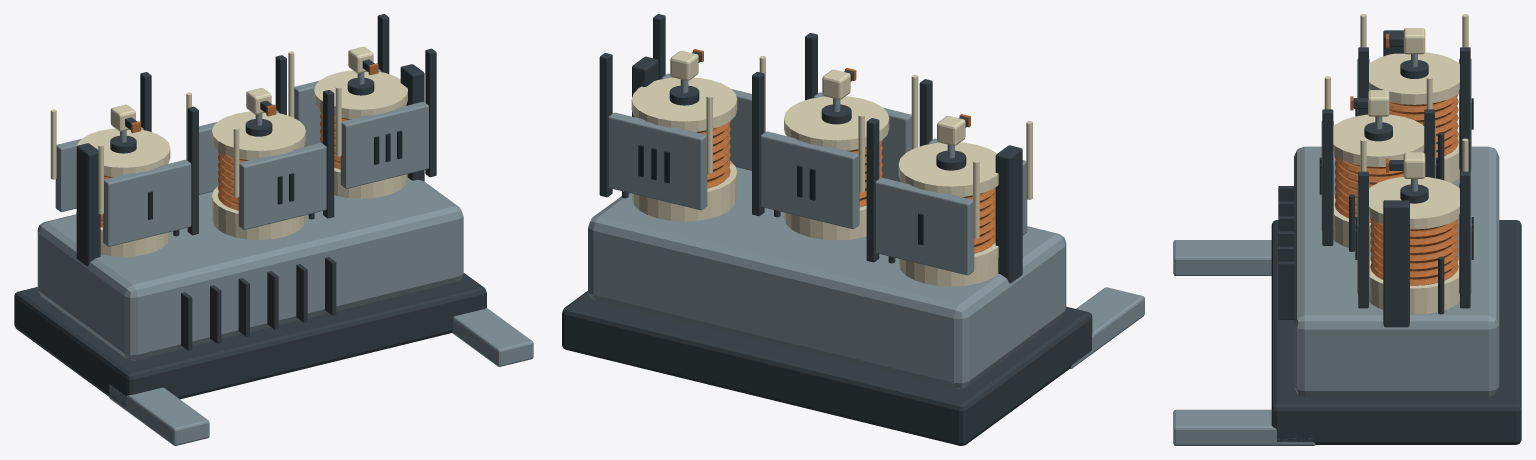
File: build132-custodian.glb
3 renders of one model, left to right at view 1: azimuth 30°, elevation 25°; view 2: azimuth 150°, elevation 25°; view 3: azimuth 270°, elevation 25°, orthographic. The views are drawn at different scales.
Visible parts, largest first — view 1: Cast_power_housing, Foundation, Shutter_0_1, Shutter_1_1, Shutter_2_1, Outrigger_0, Collar_1_1, Outrigger_1, Collar_2_1, Bearing_0, Collar_0_1, Shutter_0_0 (+19 smaller); view 2: Cast_power_housing, Foundation, Shutter_0_0, Shutter_1_0, Shutter_2_0, Collar_2_1, Collar_0_1, Collar_1_1, Bearing_0, Outrigger_0, Rail_0_0, Rail_2_0 (+15 smaller); view 3: Cast_power_housing, Foundation, Outrigger_1, Outrigger_0, Bearing_1, Collar_0_1, Collar_1_1, Collar_2_1, Rail_1_1, Rail_2_0, Rail_2_1, Rail_0_0 (+23 smaller).
Part boxes in pixels (x1=…): Cast_power_housing: x1=37, y1=178, x2=463, y2=360; Foundation: x1=14, y1=273, x2=486, y2=406; Shutter_0_1: x1=103, y1=159, x2=191, y2=246; Shutter_1_1: x1=238, y1=143, x2=326, y2=229; Shutter_2_1: x1=340, y1=102, x2=428, y2=188; Outrigger_0: x1=109, y1=384, x2=209, y2=445; Collar_1_1: x1=212, y1=111, x2=305, y2=160; Outrigger_1: x1=452, y1=308, x2=533, y2=366; Collar_2_1: x1=314, y1=70, x2=407, y2=118; Bearing_0: x1=76, y1=143, x2=100, y2=266; Collar_0_1: x1=76, y1=128, x2=170, y2=176; Shutter_0_0: x1=55, y1=127, x2=143, y2=212; Cast_power_housing: x1=588, y1=167, x2=1066, y2=388; Foundation: x1=562, y1=291, x2=1092, y2=445; Shutter_0_0: x1=875, y1=177, x2=974, y2=275; Shutter_1_0: x1=760, y1=131, x2=859, y2=229; Shutter_2_0: x1=608, y1=112, x2=707, y2=210; Collar_2_1: x1=631, y1=77, x2=737, y2=131; Collar_0_1: x1=898, y1=142, x2=998, y2=196; Collar_1_1: x1=784, y1=96, x2=889, y2=150; Bearing_0: x1=995, y1=145, x2=1022, y2=283; Outrigger_0: x1=1070, y1=287, x2=1144, y2=368; Rail_0_0: x1=866, y1=118, x2=879, y2=262; Rail_2_0: x1=599, y1=53, x2=612, y2=197; Cast_power_housing: x1=1294, y1=146, x2=1499, y2=396; Foundation: x1=1271, y1=220, x2=1521, y2=444; Outrigger_1: x1=1173, y1=409, x2=1315, y2=445; Outrigger_0: x1=1173, y1=240, x2=1271, y2=275; Bearing_1: x1=1383, y1=200, x2=1409, y2=327; Collar_0_1: x1=1369, y1=52, x2=1459, y2=104; Collar_1_1: x1=1333, y1=114, x2=1424, y2=167; Collar_2_1: x1=1369, y1=177, x2=1459, y2=229; Rail_1_1: x1=1322, y1=109, x2=1333, y2=245; Rail_2_0: x1=1460, y1=171, x2=1470, y2=308; Rail_2_1: x1=1358, y1=171, x2=1368, y2=308; Rail_0_0: x1=1460, y1=47, x2=1470, y2=171.
Bounding box in the file's own units: 5 × 3.29 × 3.9.
